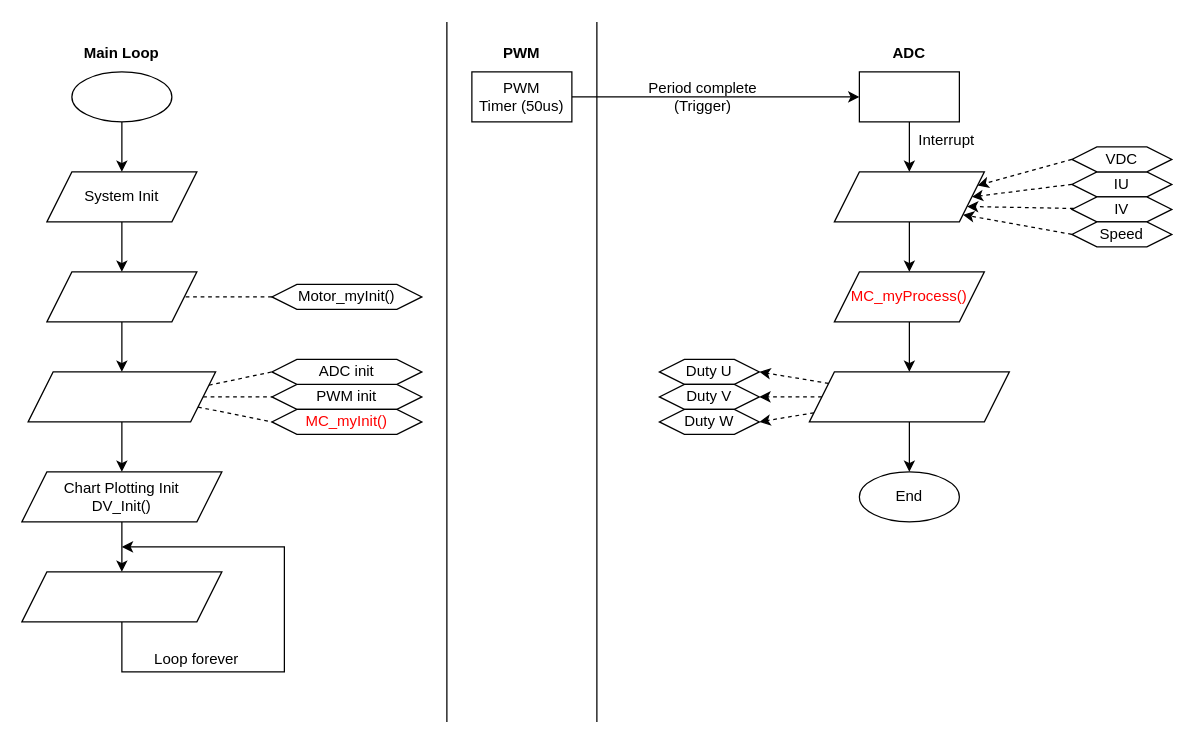
The diagram is 1194 pixels wide and 745 high, and some of its shapes have lost their labels. The shapes that lost their labels are listed below. From the top down, each one's centre as x and y in pixels, then its label:
At point 121,96: "Start".
At point 908,96: "ADC Sampling".
At point 908,196: "Get inputs".
At point 121,296: "Motor Init Motor_Init()".
At point 121,396: "Motor Control Init MC_Init()".
At point 908,396: "Update PWM duty".
At point 121,596: "Chart Plotting Task DV_Tasks()".
